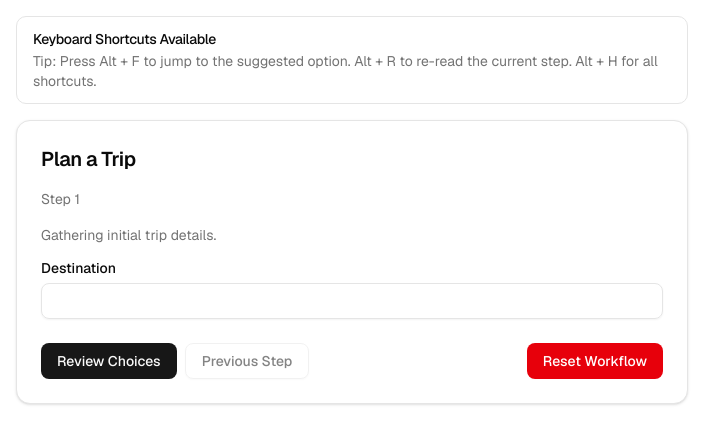
Test: WorkflowStepContainer › Safe Mode › does not open dialog when form validation fails
Do not fill required 'destination' field
Click the button "Review Choices": (109, 361) [41,343,177,379]
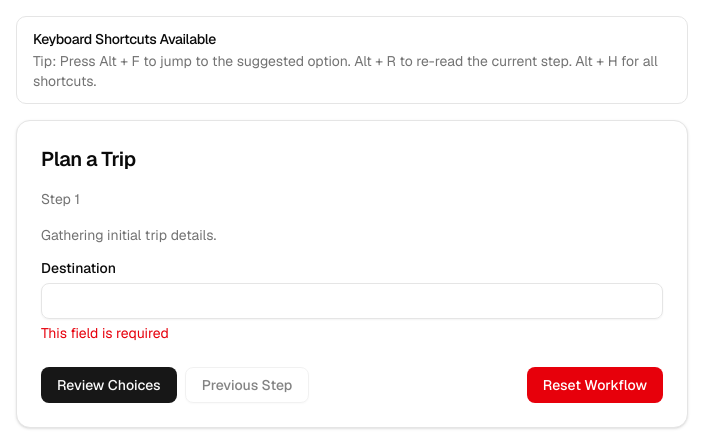
Check: the text "This field is required" is shown, box [41,324,169,342]
